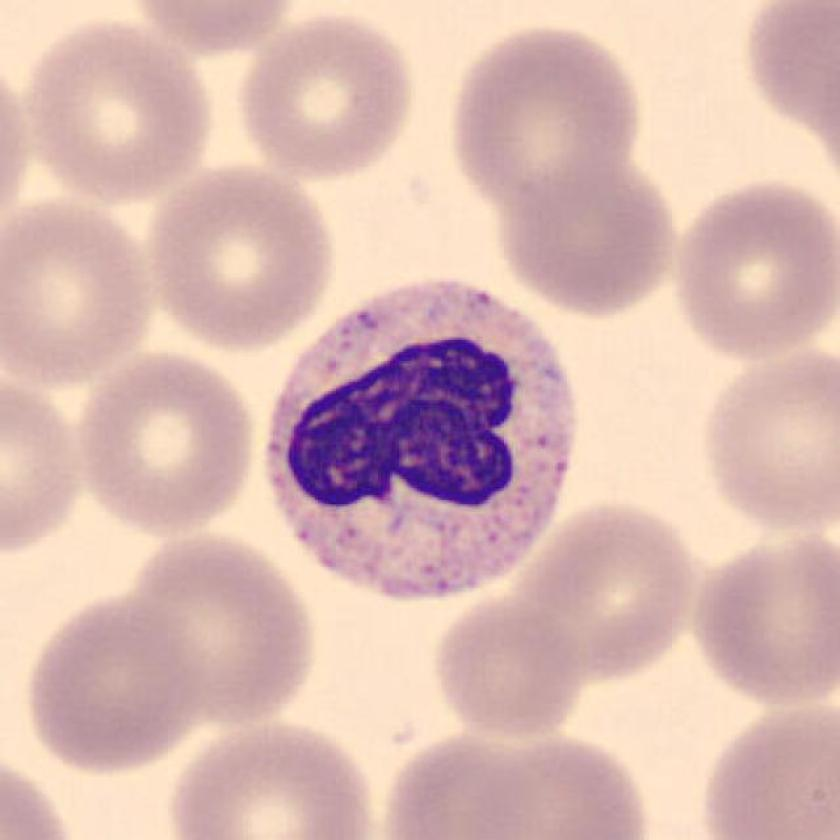neutrophil: (266, 277, 572, 598)
